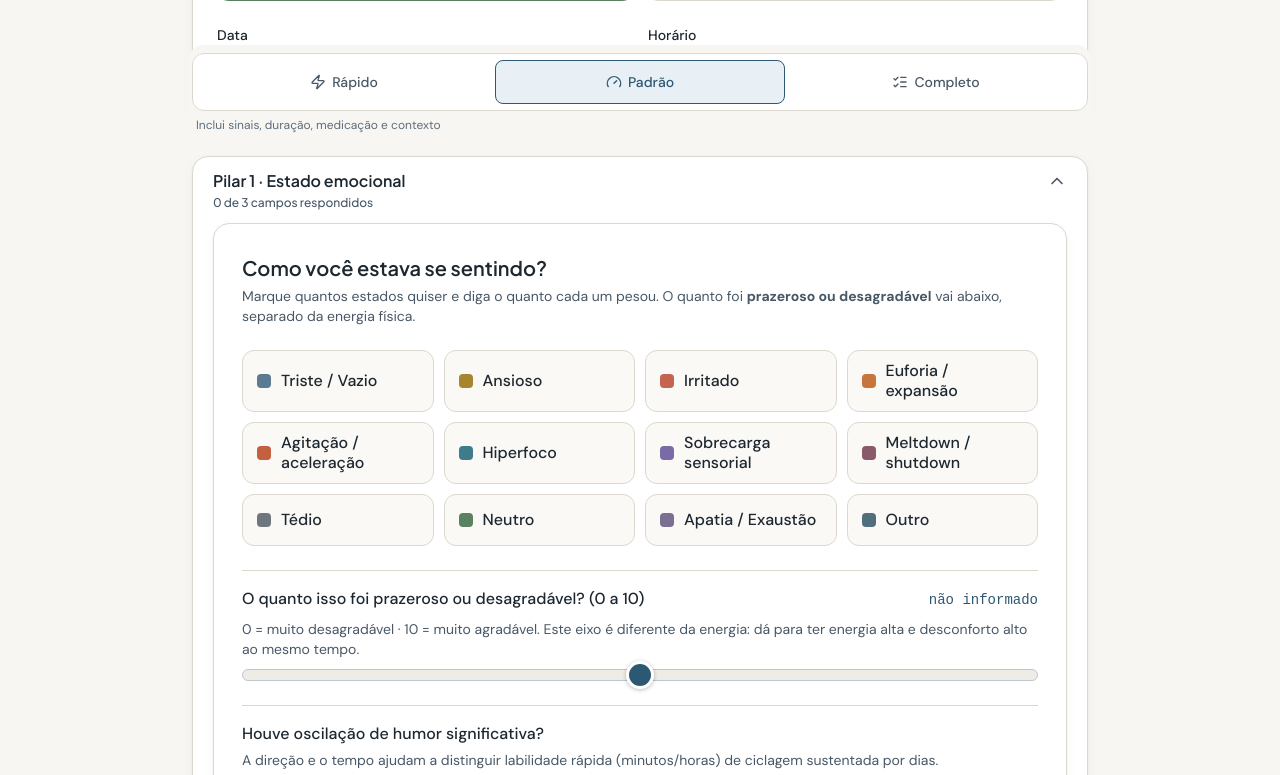
Test: DailyLogForm › no nível padrão os pilares viram seções recolhíveis com resumo
(page scrolled)
Expected: the button "Pilar 1 · Estado emocional 0 de 3 campos respondidos" is shown, 193,157 -> 1087,223
Click the button "Ansioso": (539,381) 444,350 -> 635,412
(page scrolled)
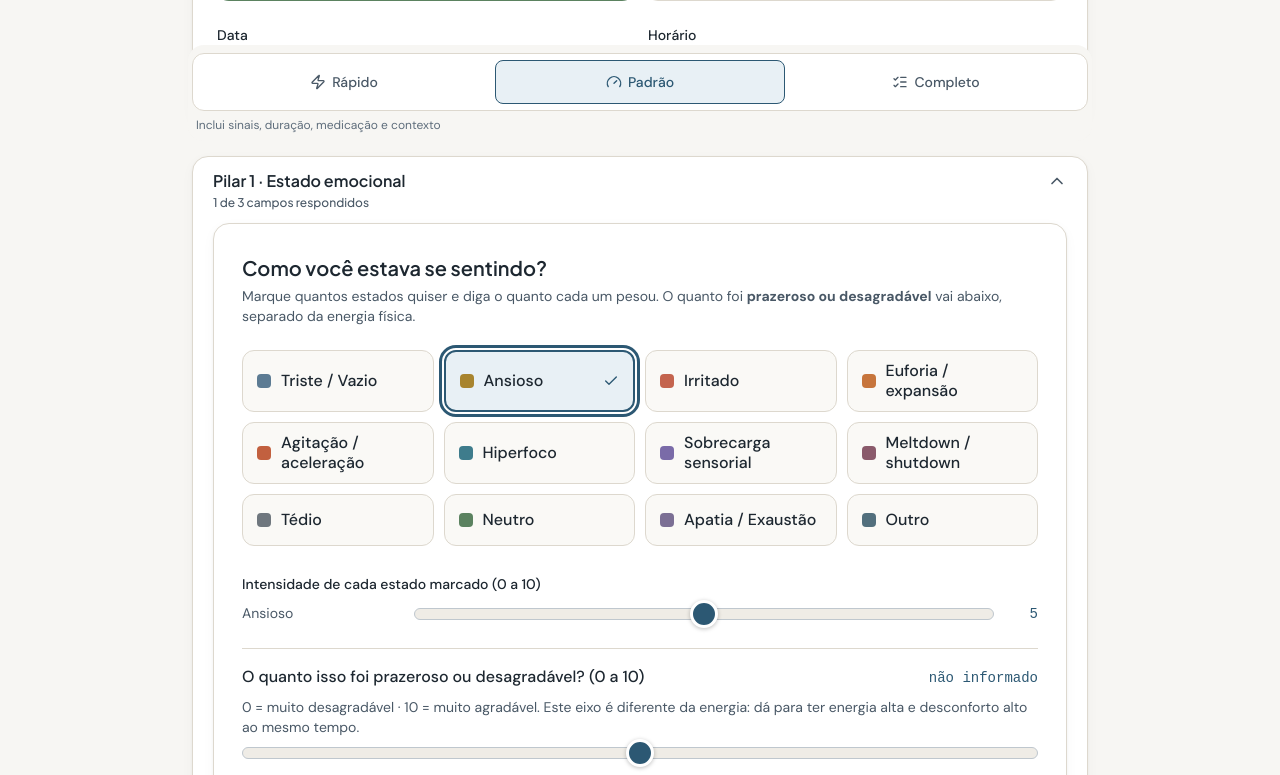
Now the button "Pilar 1 · Estado emocional 1 de 3 campos respondidos" is shown
Click the button "Pilar 1 · Estado emocional 1 de 3 campos respondidos": (309,180) 193,157 -> 1087,223
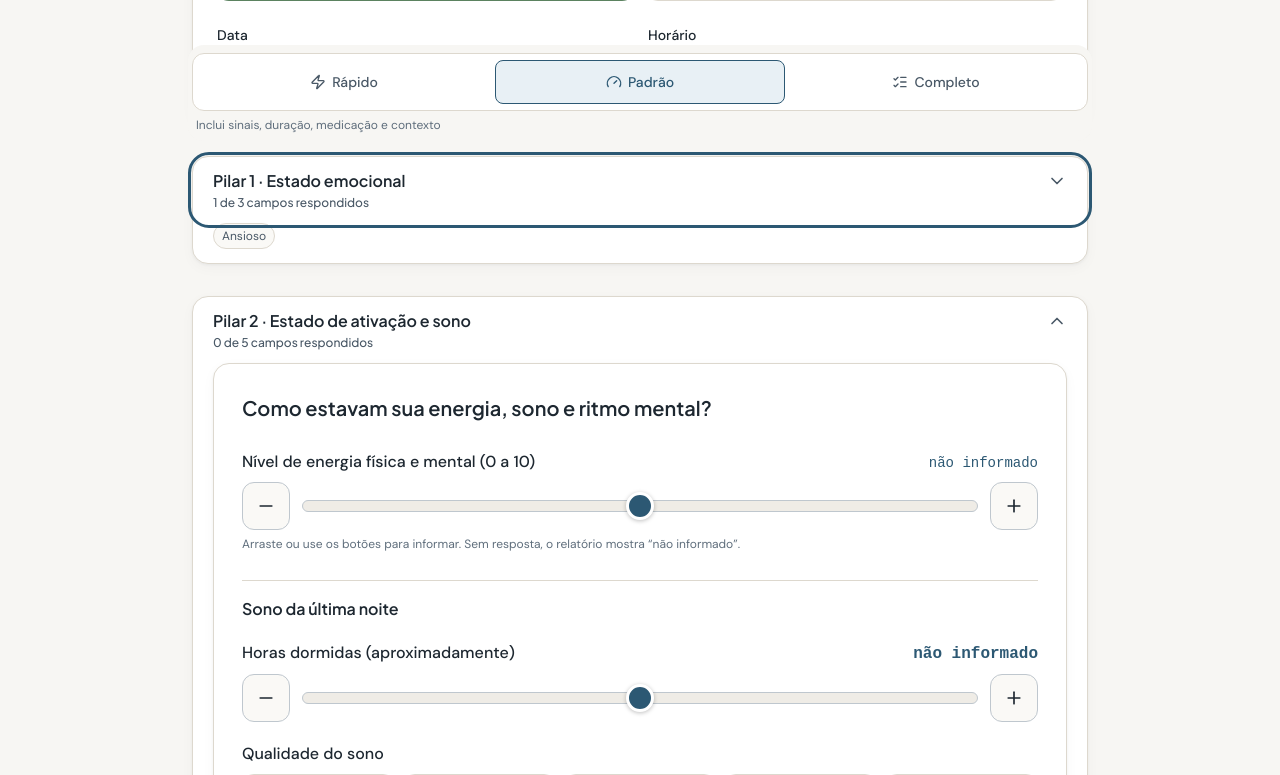
Expected: the list named "Resumo de Pilar 1" reads "Ansioso", 222,228 -> 266,244
Now the button "Pilar 1 · Estado emocional 1 de 3 campos respondidos" is collapsed, box 193,157 -> 1087,223
Now the heading "Como você estava se sentindo?" is gone
